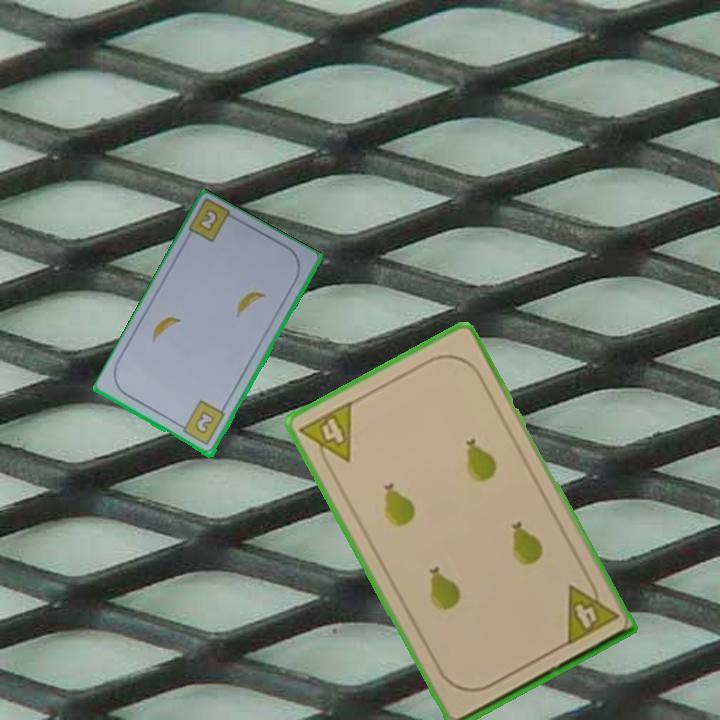2b: (175, 397, 228, 448), (197, 208, 219, 232)
4p: (561, 573, 622, 648), (296, 397, 355, 474)
